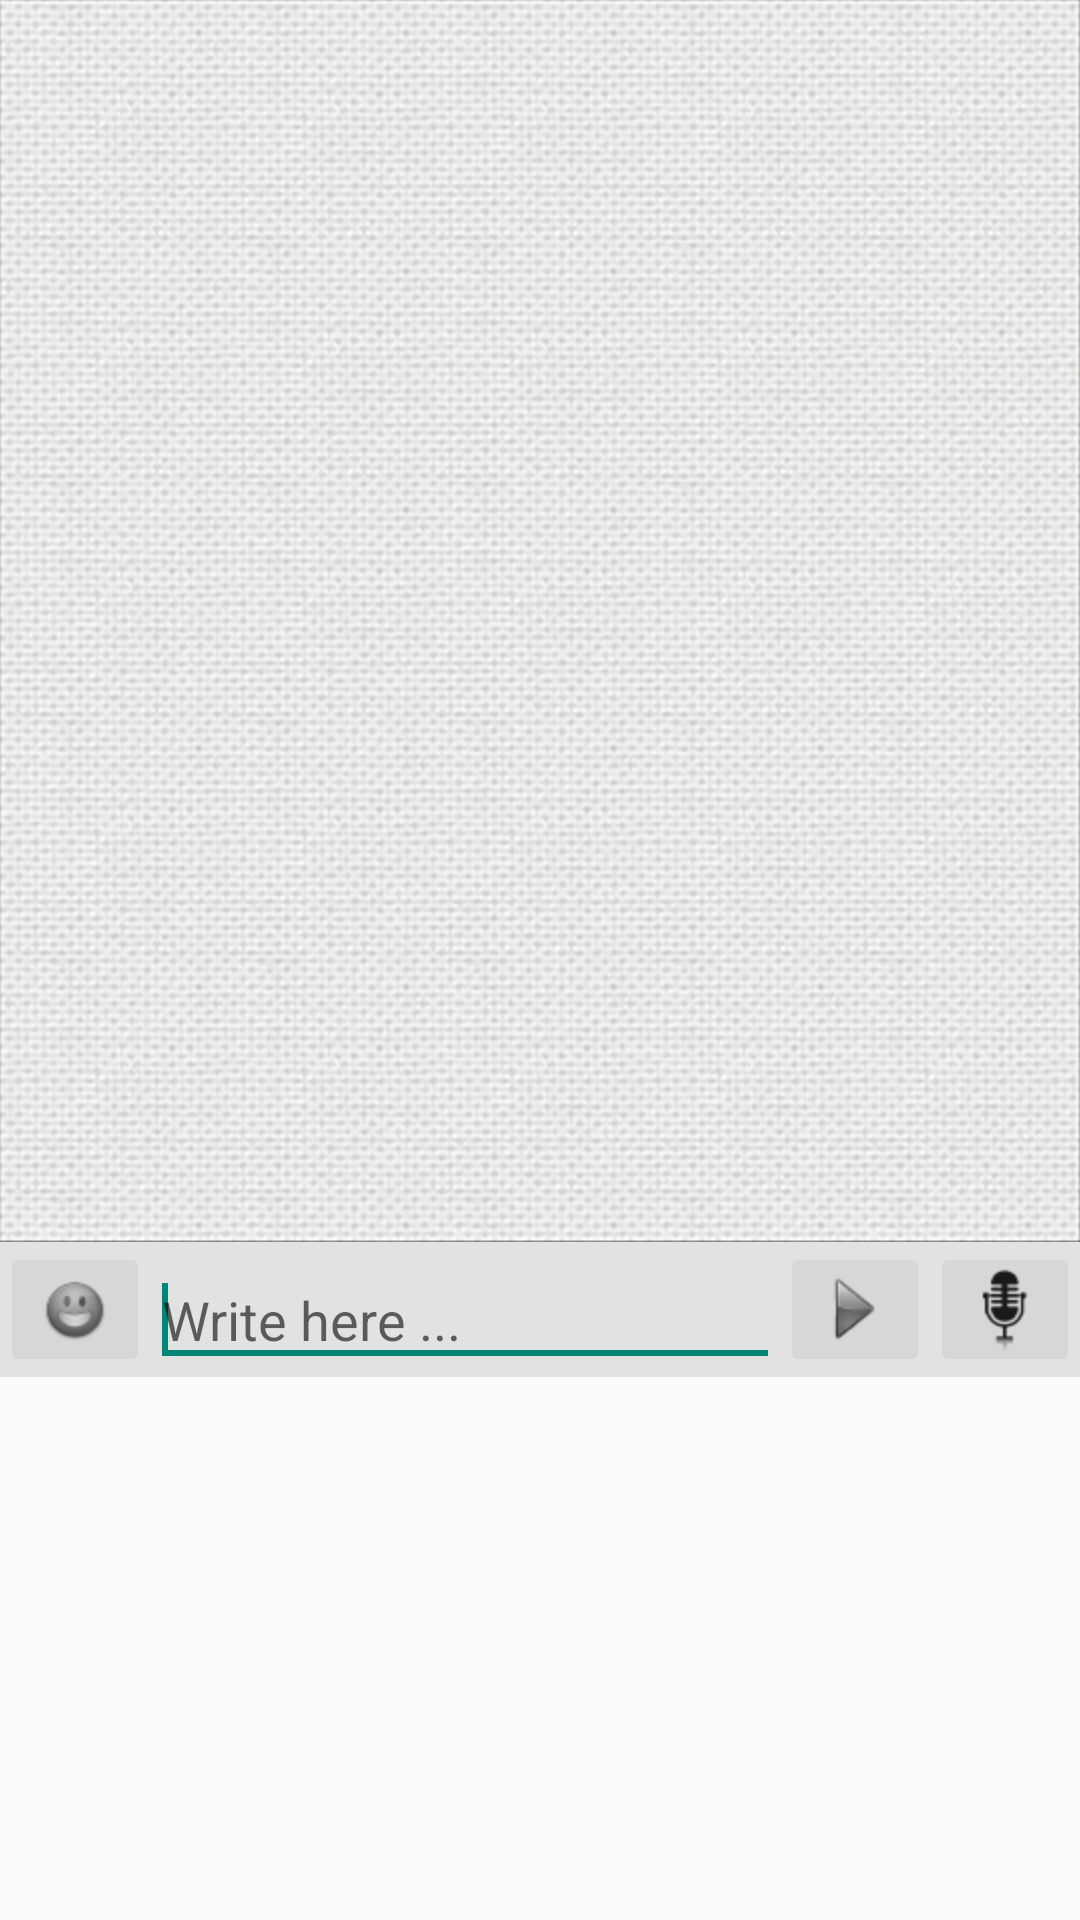

Where icons sit on this 1080px x 1920px app screen, as (x1, y1, x2, y2):
emo: (45, 1281, 105, 1340)
mic: (982, 1269, 1028, 1349)
send: (834, 1278, 875, 1340)
